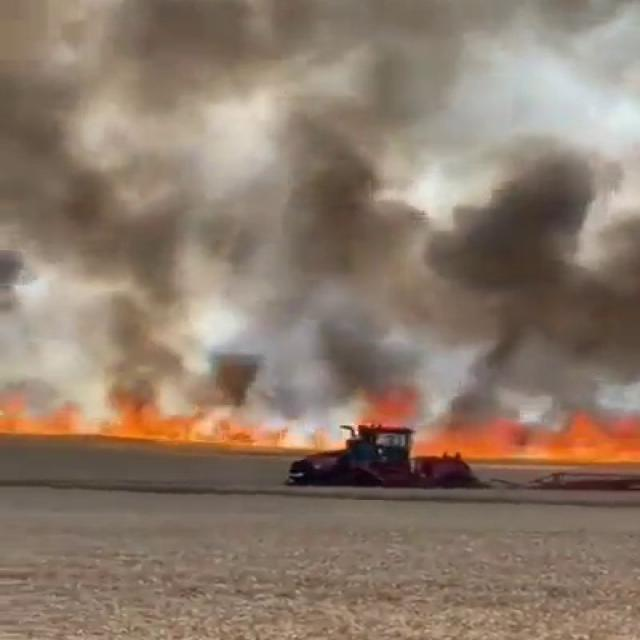Fire: (0, 382, 342, 458), (354, 386, 640, 466)
